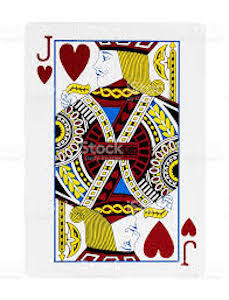JackOfHearts: (20, 18, 207, 281)
